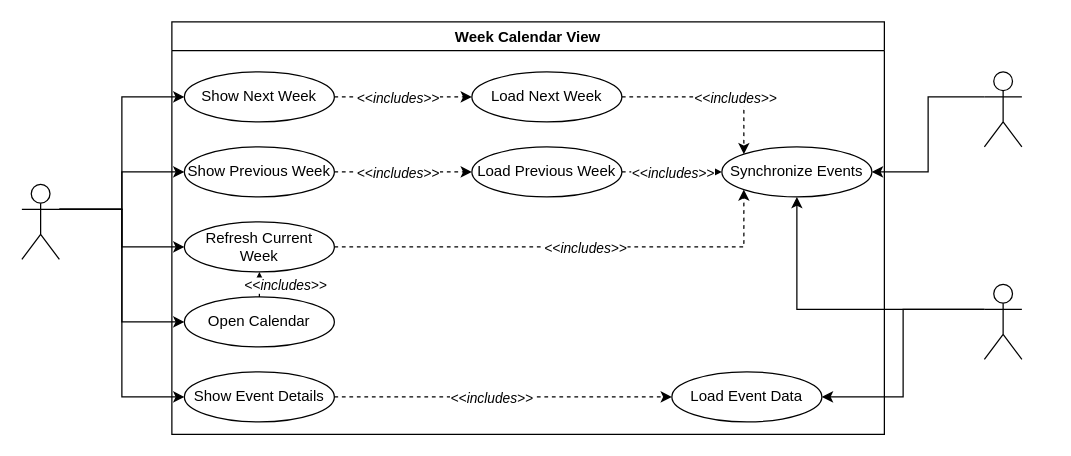
Some shapes in this 1071 by 456 pixel diagram are drawn without their labels. Here are the shapes that lost their labels. From the top down, the box of each, then its label:
(983, 71, 1022, 147): Server
(21, 183, 59, 259): User
(983, 283, 1022, 359): Local Storage
